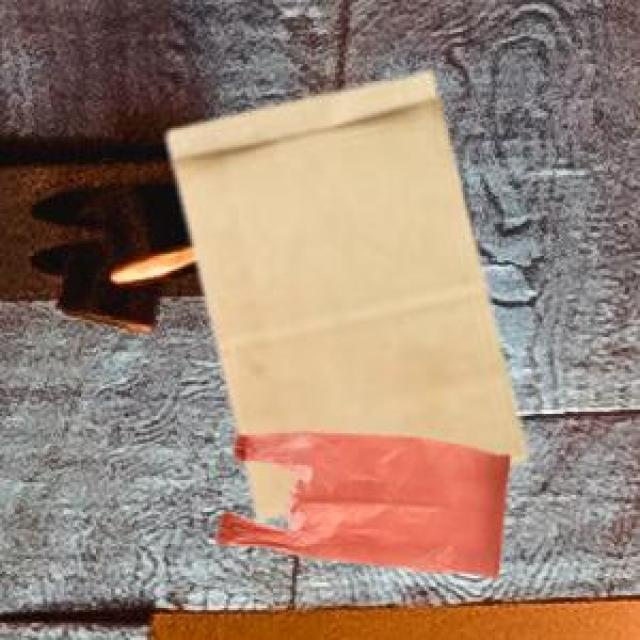paper: (164, 68, 523, 514)
